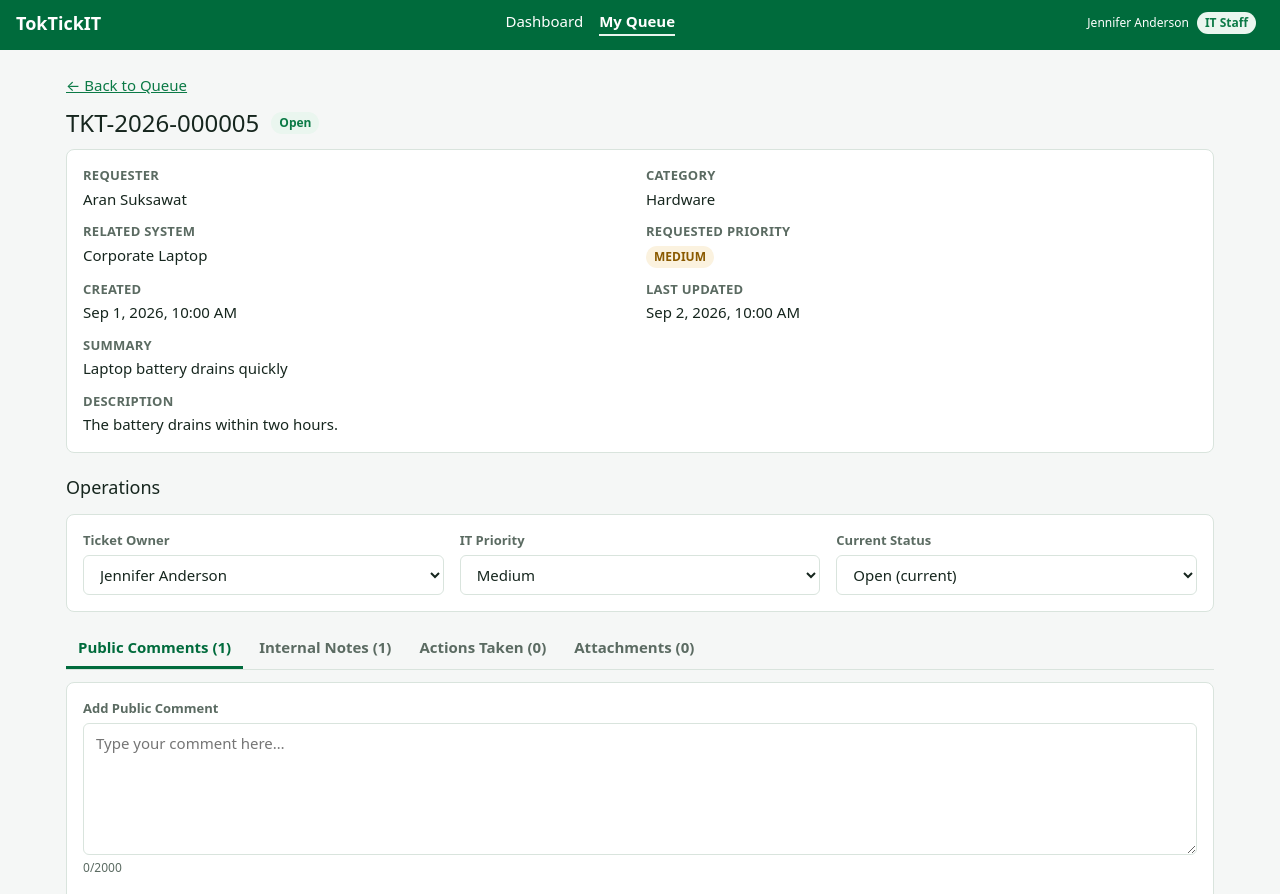
Test case: IT Staff Ticket Detail screen › keeps Internal Notes in a visibly separate panel from Public Comments
Click the tab "Internal Notes (1)" at (325, 649), box [247, 628, 403, 669]
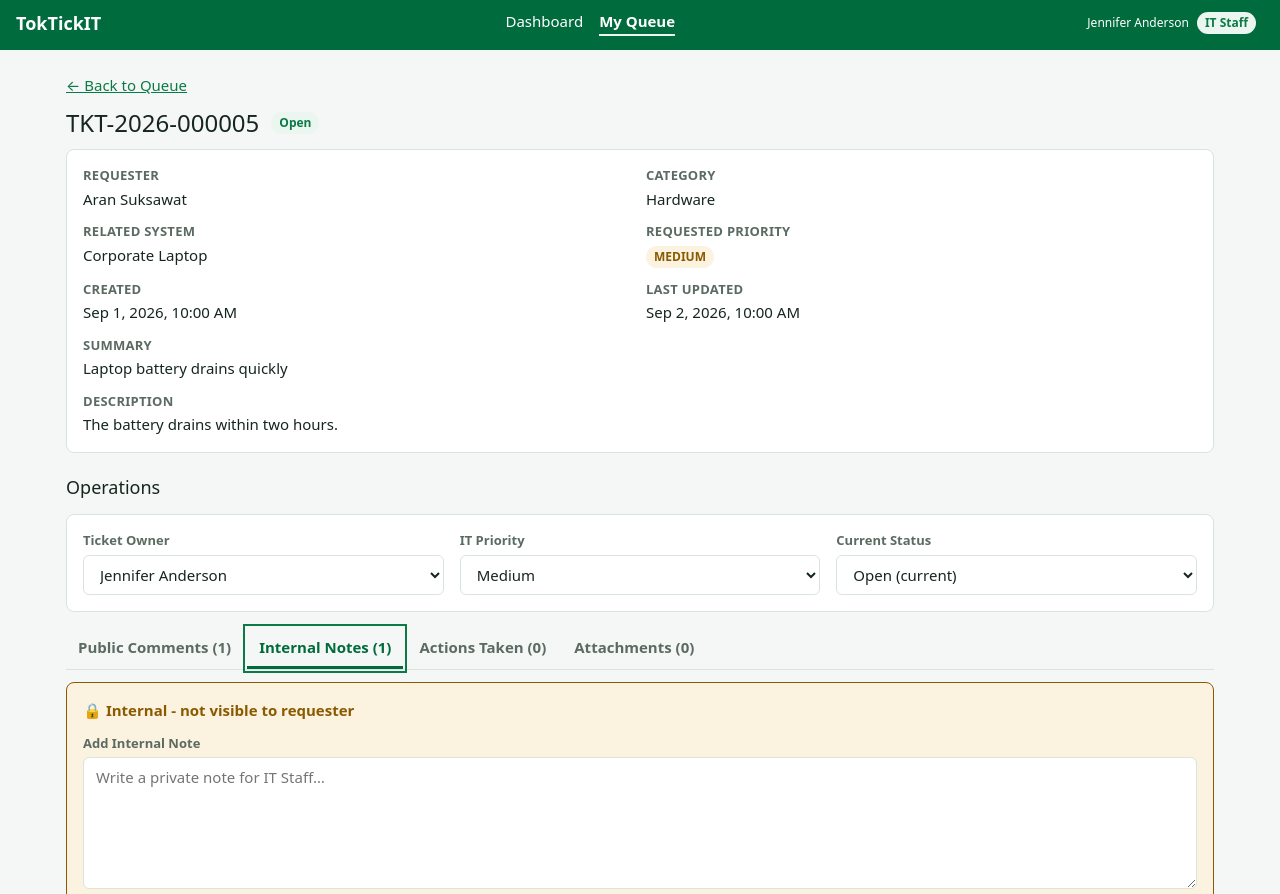
Expected: the text "🔒 Internal - not visible to requester" is shown, [83, 700, 354, 720]
Click the tab "Public Comments (1)" at (155, 649), box [66, 628, 243, 669]
(page scrolled)
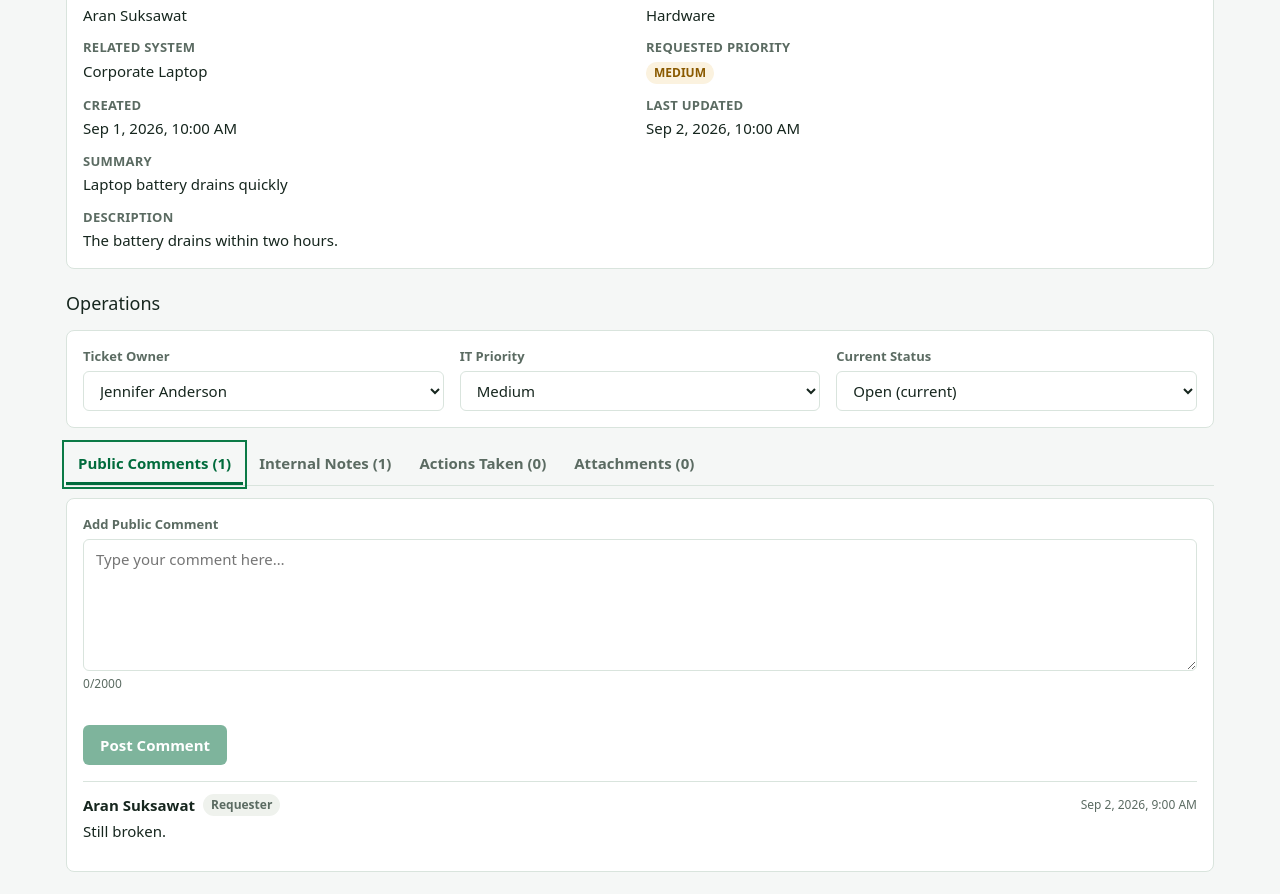
Expected: the text "Still broken." is shown, [83, 821, 166, 841]
Expected: the button "Post Comment" is shown, [83, 725, 227, 765]
